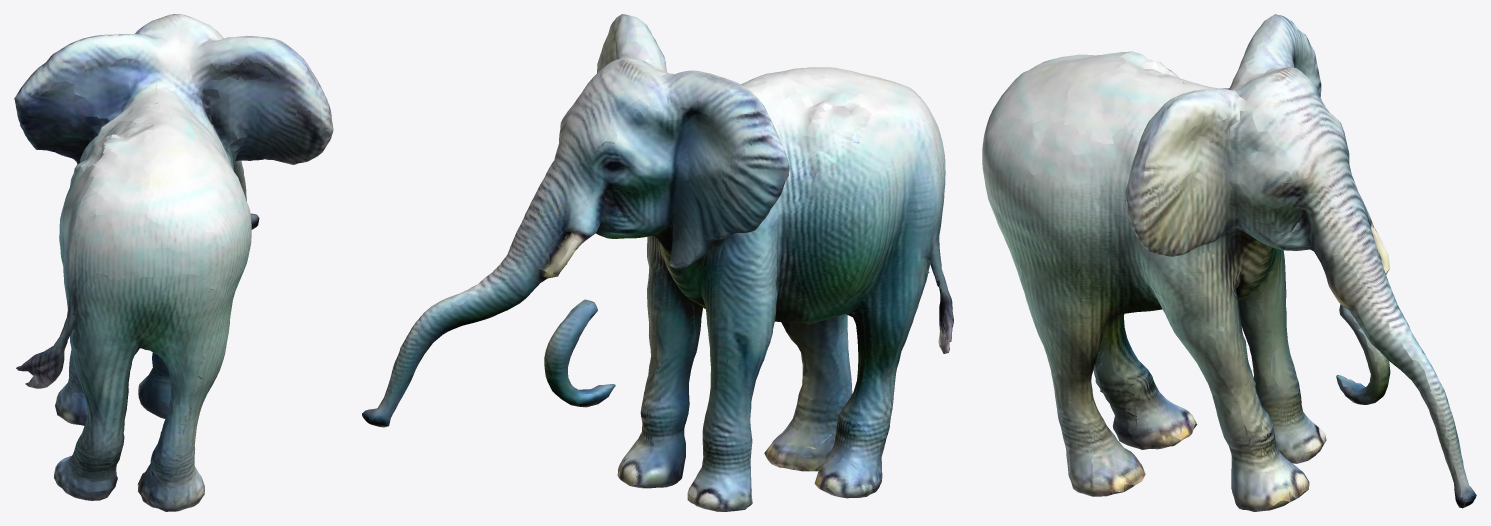
Rendered from SPAR3D_result_20250708_005416.glb.
3 renders of one model, left to right at view 1: azimuth 30°, elevation 25°; view 2: azimuth 150°, elevation 25°; view 3: azimuth 270°, elevation 25°, orthographic. The views are drawn at different scales.
Parts seen in each view (by area): view 1: world; view 2: world; view 3: world.
Boxes of the visible parts, box(x1,y1,x2,y2) form: world: box(14, 14, 333, 511); world: box(362, 14, 953, 511); world: box(982, 14, 1476, 511).
Size of the model in its own units: 0.96 by 0.9608 by 0.9323.
Materials: 1 (1 with a texture image).
